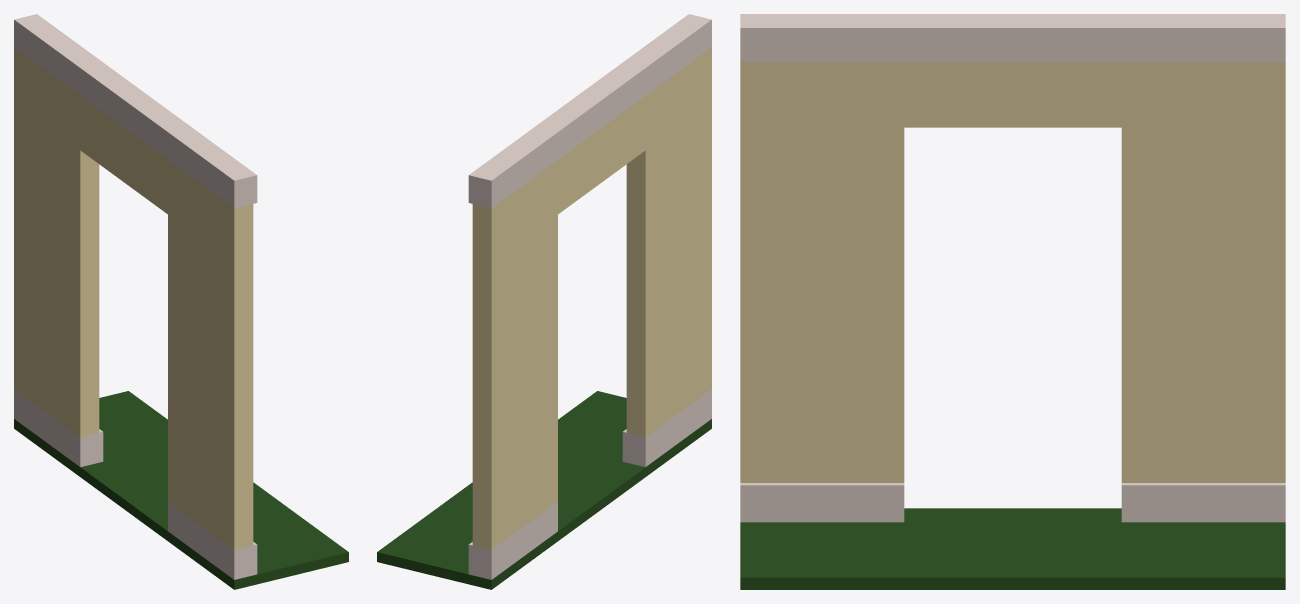
Rendered from Door Wall.fbx.
3 views of the same model, side by side, from view 1: azimuth 30°, elevation 25°; view 2: azimuth 150°, elevation 25°; view 3: azimuth 270°, elevation 25° (orthographic). The views are drawn at different scales.
Visible parts, largest first — view 1: Door Wall; view 2: Door Wall; view 3: Door Wall.
Part boxes in pixels (x1=…): Door Wall: x1=14, y1=14, x2=348, y2=589; Door Wall: x1=377, y1=14, x2=711, y2=589; Door Wall: x1=740, y1=14, x2=1285, y2=589.
Size of the model in its own units: 60 by 205 by 200.
